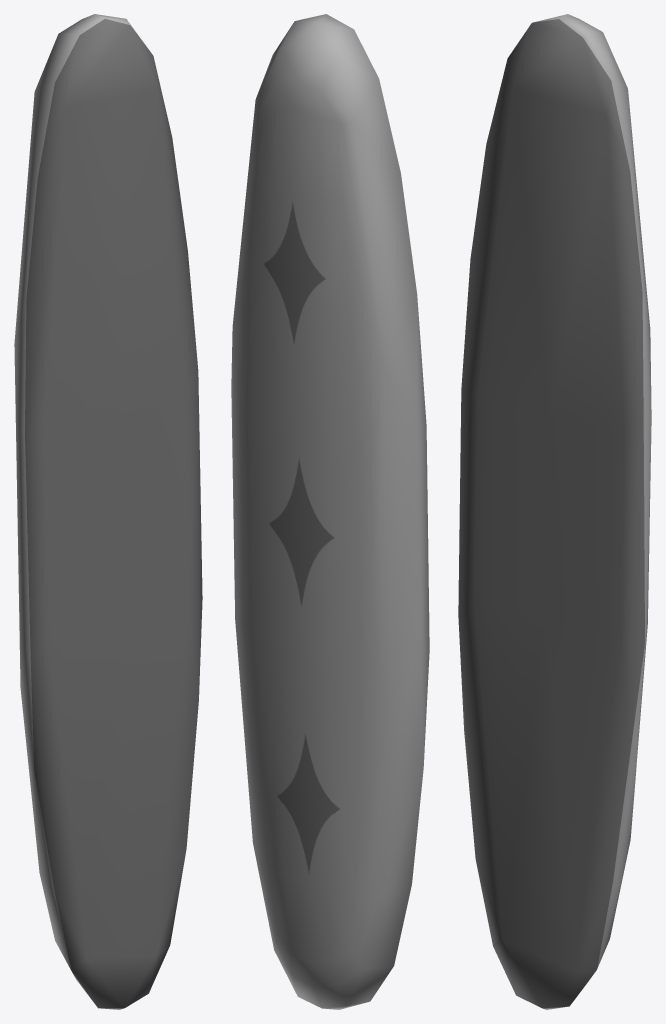
File: yoot-v2-regular-disabled.glb
The picture shows the model from 3 angles, left to right: view 1: azimuth 30°, elevation 25°; view 2: azimuth 150°, elevation 25°; view 3: azimuth 330°, elevation 25°; orthographic projection. The views are drawn at different scales.
Parts seen in each view (by area): view 1: yoot1; view 2: yoot1; view 3: yoot1.
Part boxes in pixels (box(x1,y1,x2,y2)): yoot1: box(14, 14, 202, 1009); yoot1: box(231, 14, 429, 1009); yoot1: box(458, 14, 651, 1009).
Bounding box in the file's own units: 2.42 × 12.56 × 1.2.
Materials: 1 (1 with a texture image).
